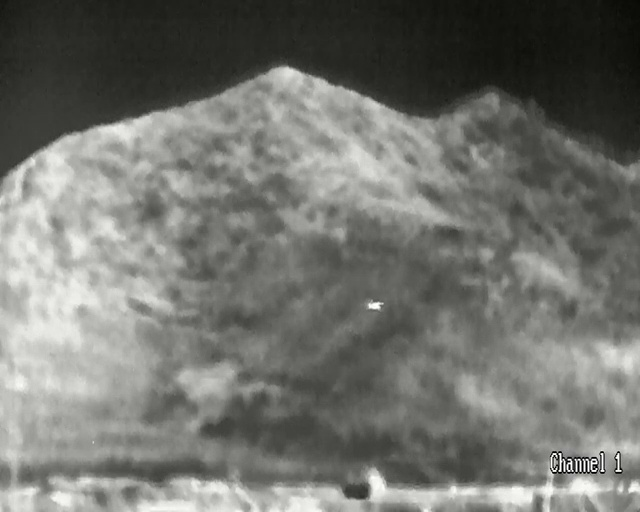uav: (367, 299, 384, 312)
